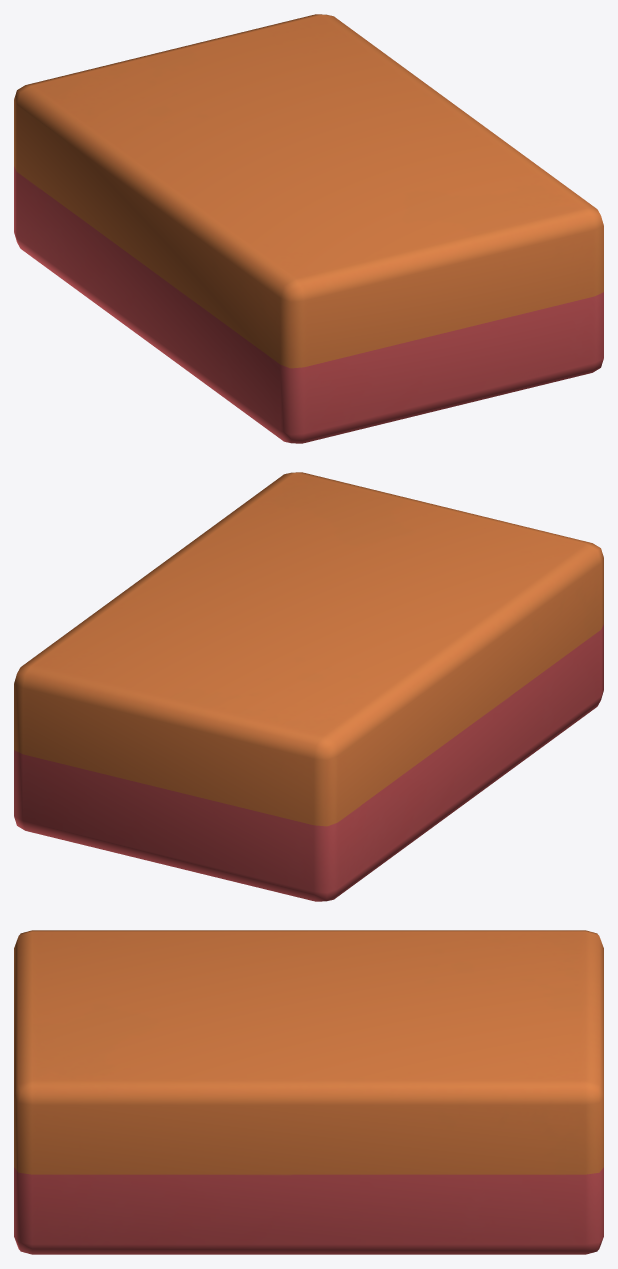
File: DoublePlatform.fbx
The picture shows the model from 3 angles, top to bottom: view 1: azimuth 30°, elevation 25°; view 2: azimuth 150°, elevation 25°; view 3: azimuth 270°, elevation 25°; orthographic projection. The views are drawn at different scales.
Visible parts, largest first — view 1: DoublePlatform; view 2: DoublePlatform; view 3: DoublePlatform.
Part boxes in pixels (x1,y1,x2,y2): DoublePlatform: (14, 14, 603, 443); DoublePlatform: (14, 472, 603, 901); DoublePlatform: (14, 930, 603, 1254).
Bounding box in the file's own units: 396 × 193 × 600.
